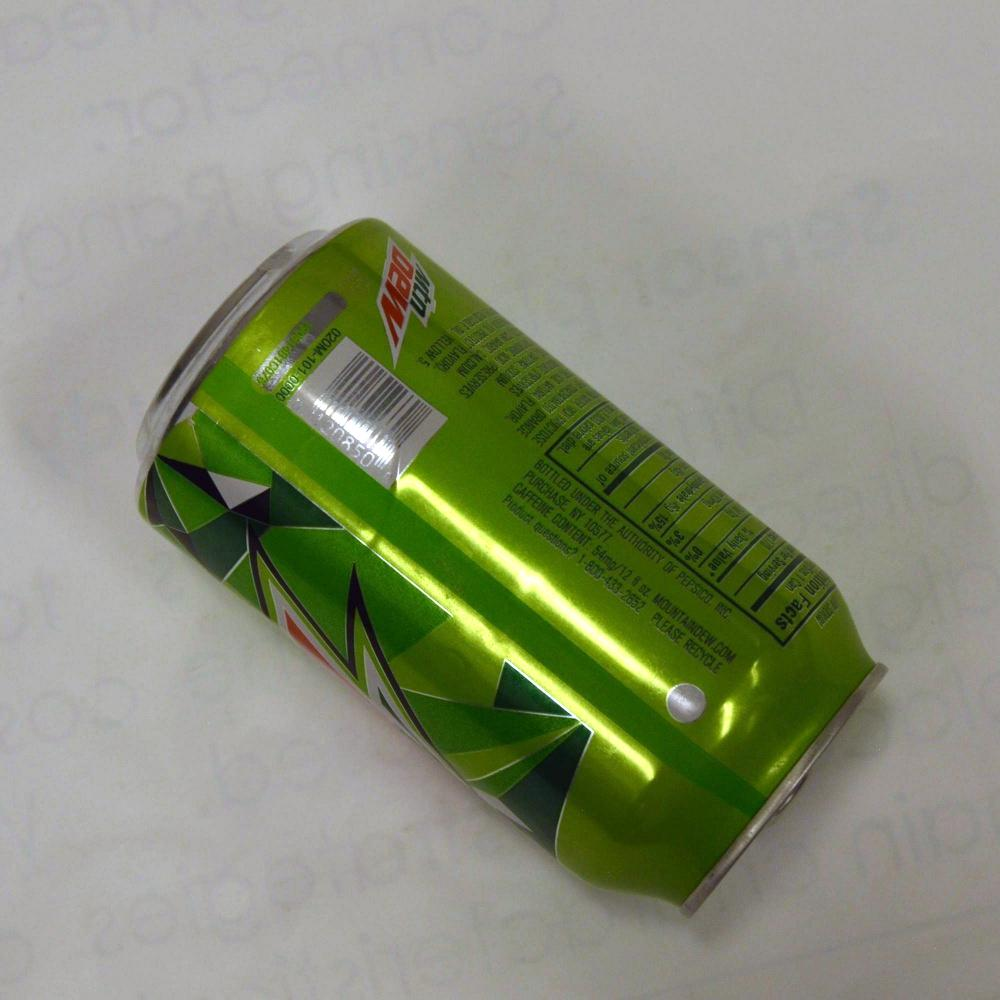Metal: (96, 177, 953, 958)
